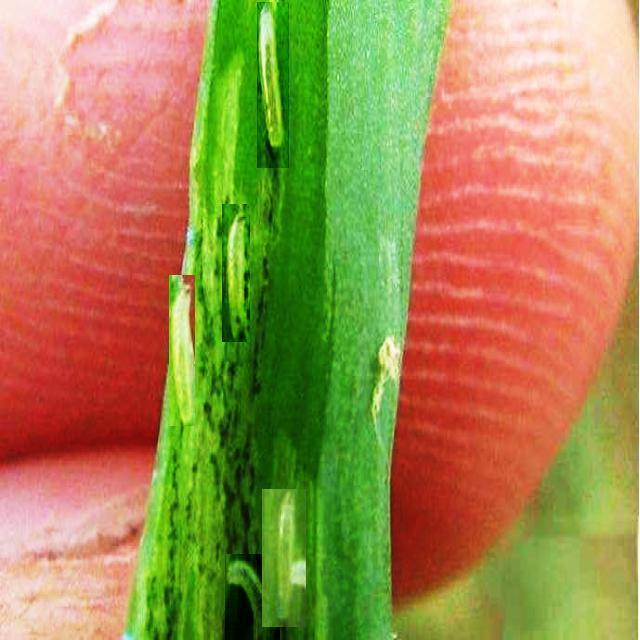whorl-maggot: (263, 489, 307, 627), (258, 2, 290, 168), (225, 554, 280, 640), (169, 275, 195, 426), (222, 204, 250, 342)
